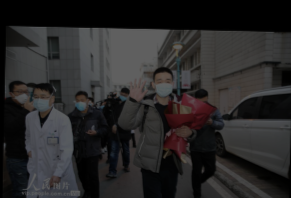with_mask: (152, 76, 173, 98), (31, 91, 51, 111), (12, 87, 29, 103), (73, 96, 88, 111), (118, 90, 127, 101)
